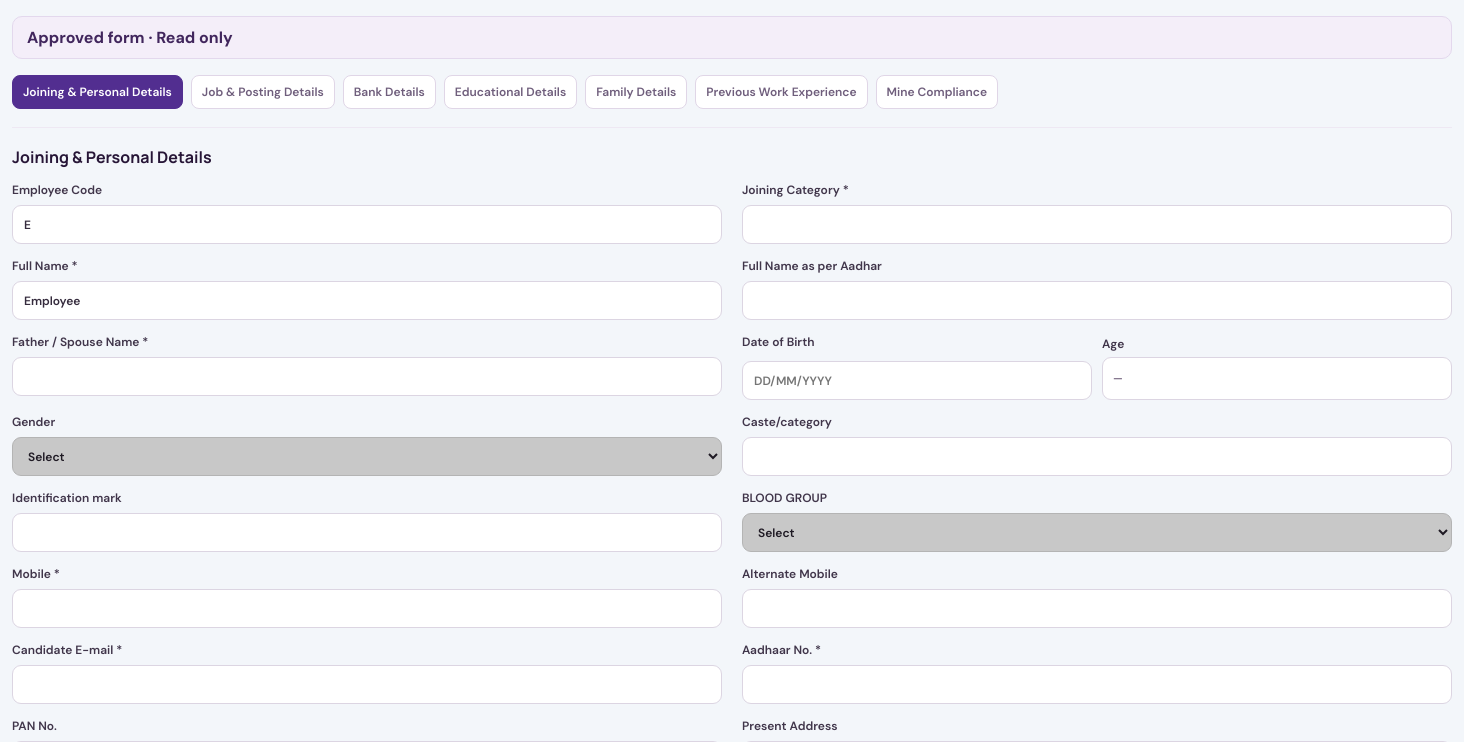
shows a separate age column beside each family DOB in approved reviews
Click the button "Family Details" at (636,92), box [585,75,687,109]
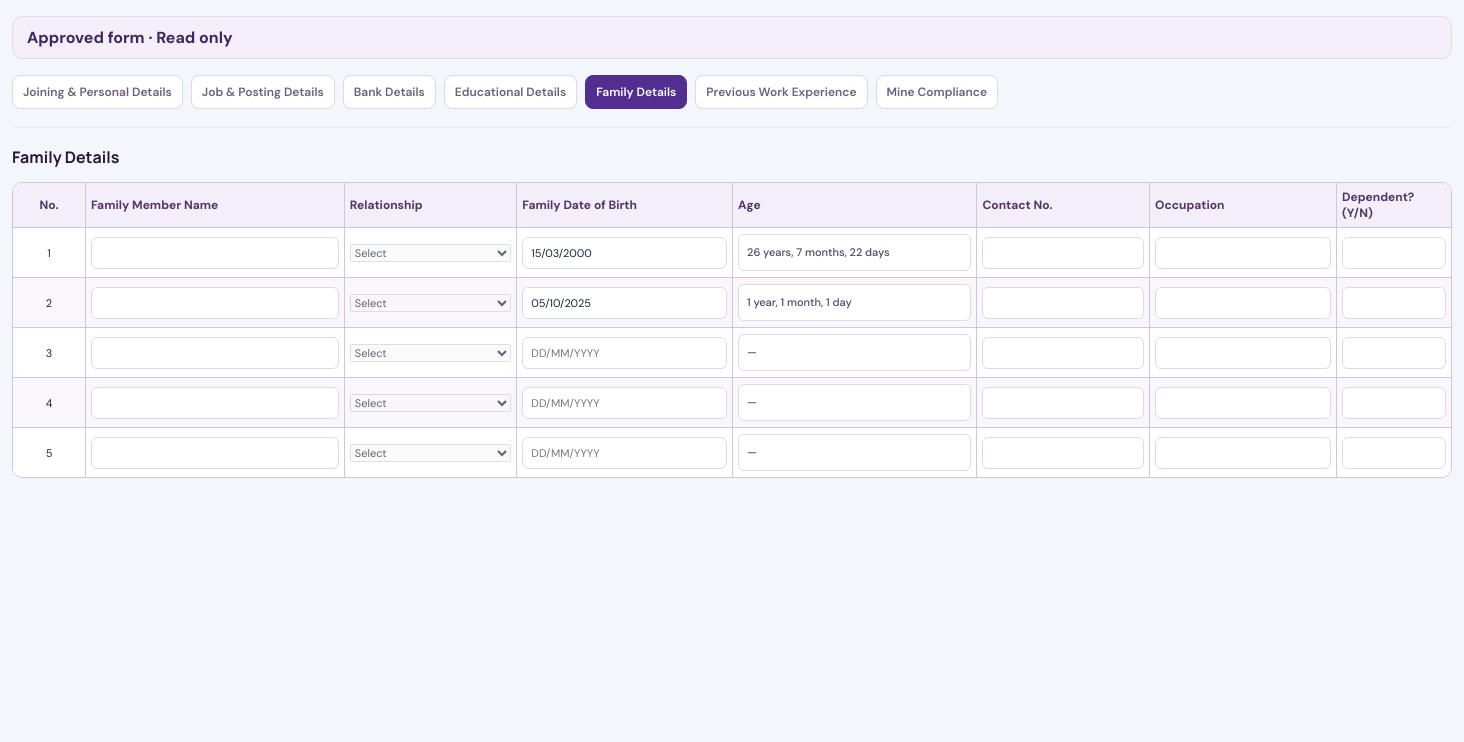
Check: the text named "Age 1" reads "26 years, 7 months, 22 days", box [747,245,890,259]
Check: the text named "Age 2" reads "1 year, 1 month, 1 day", box [747,295,852,309]
